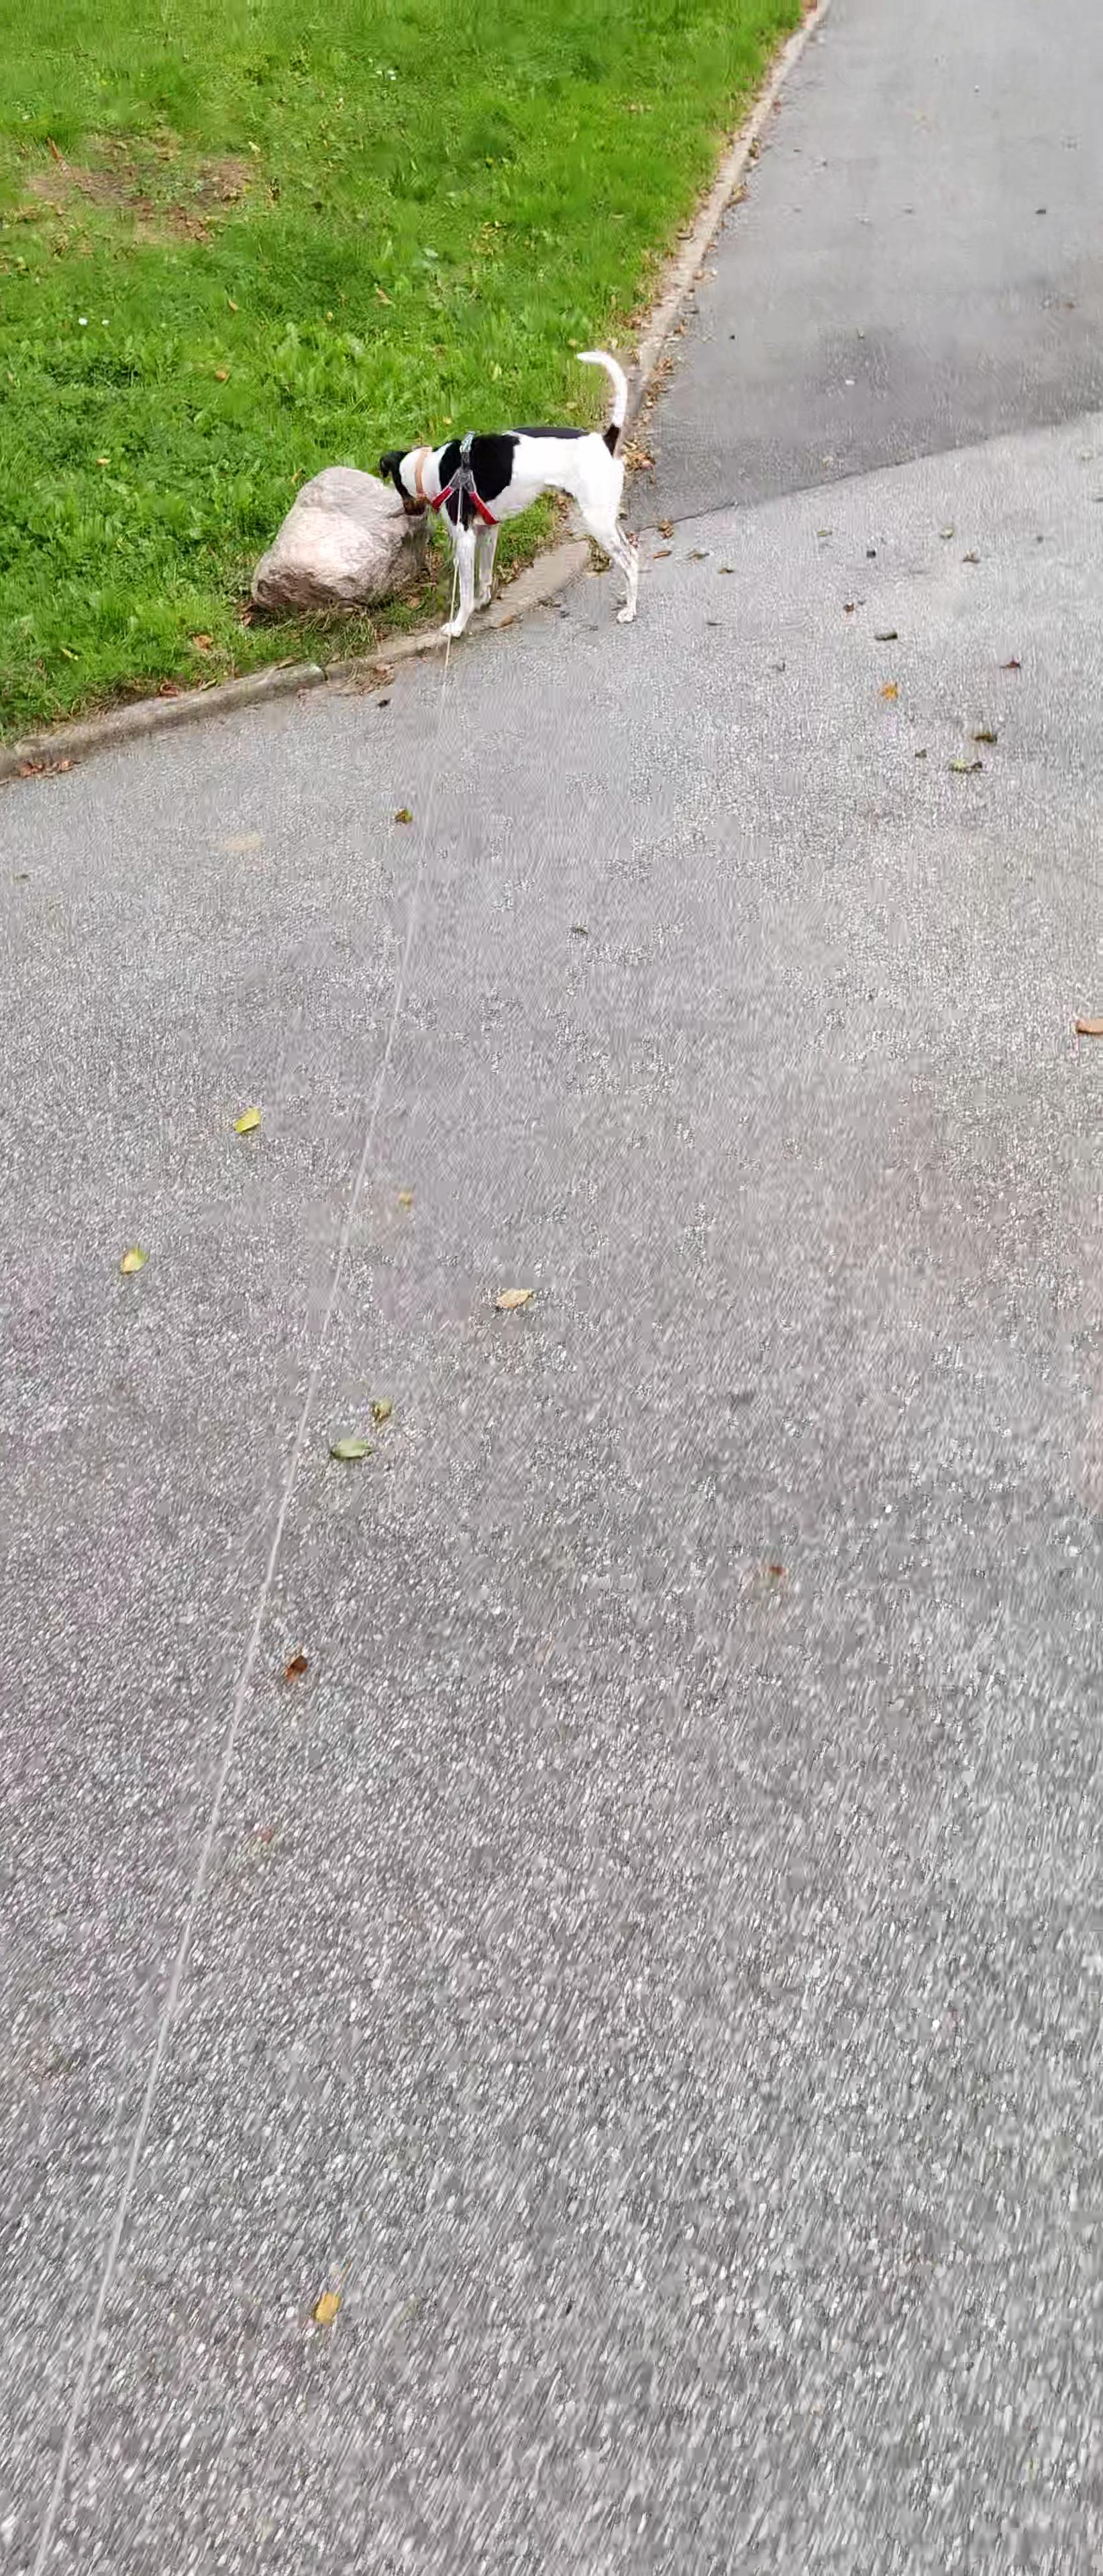Dog: (358, 338, 664, 644)
